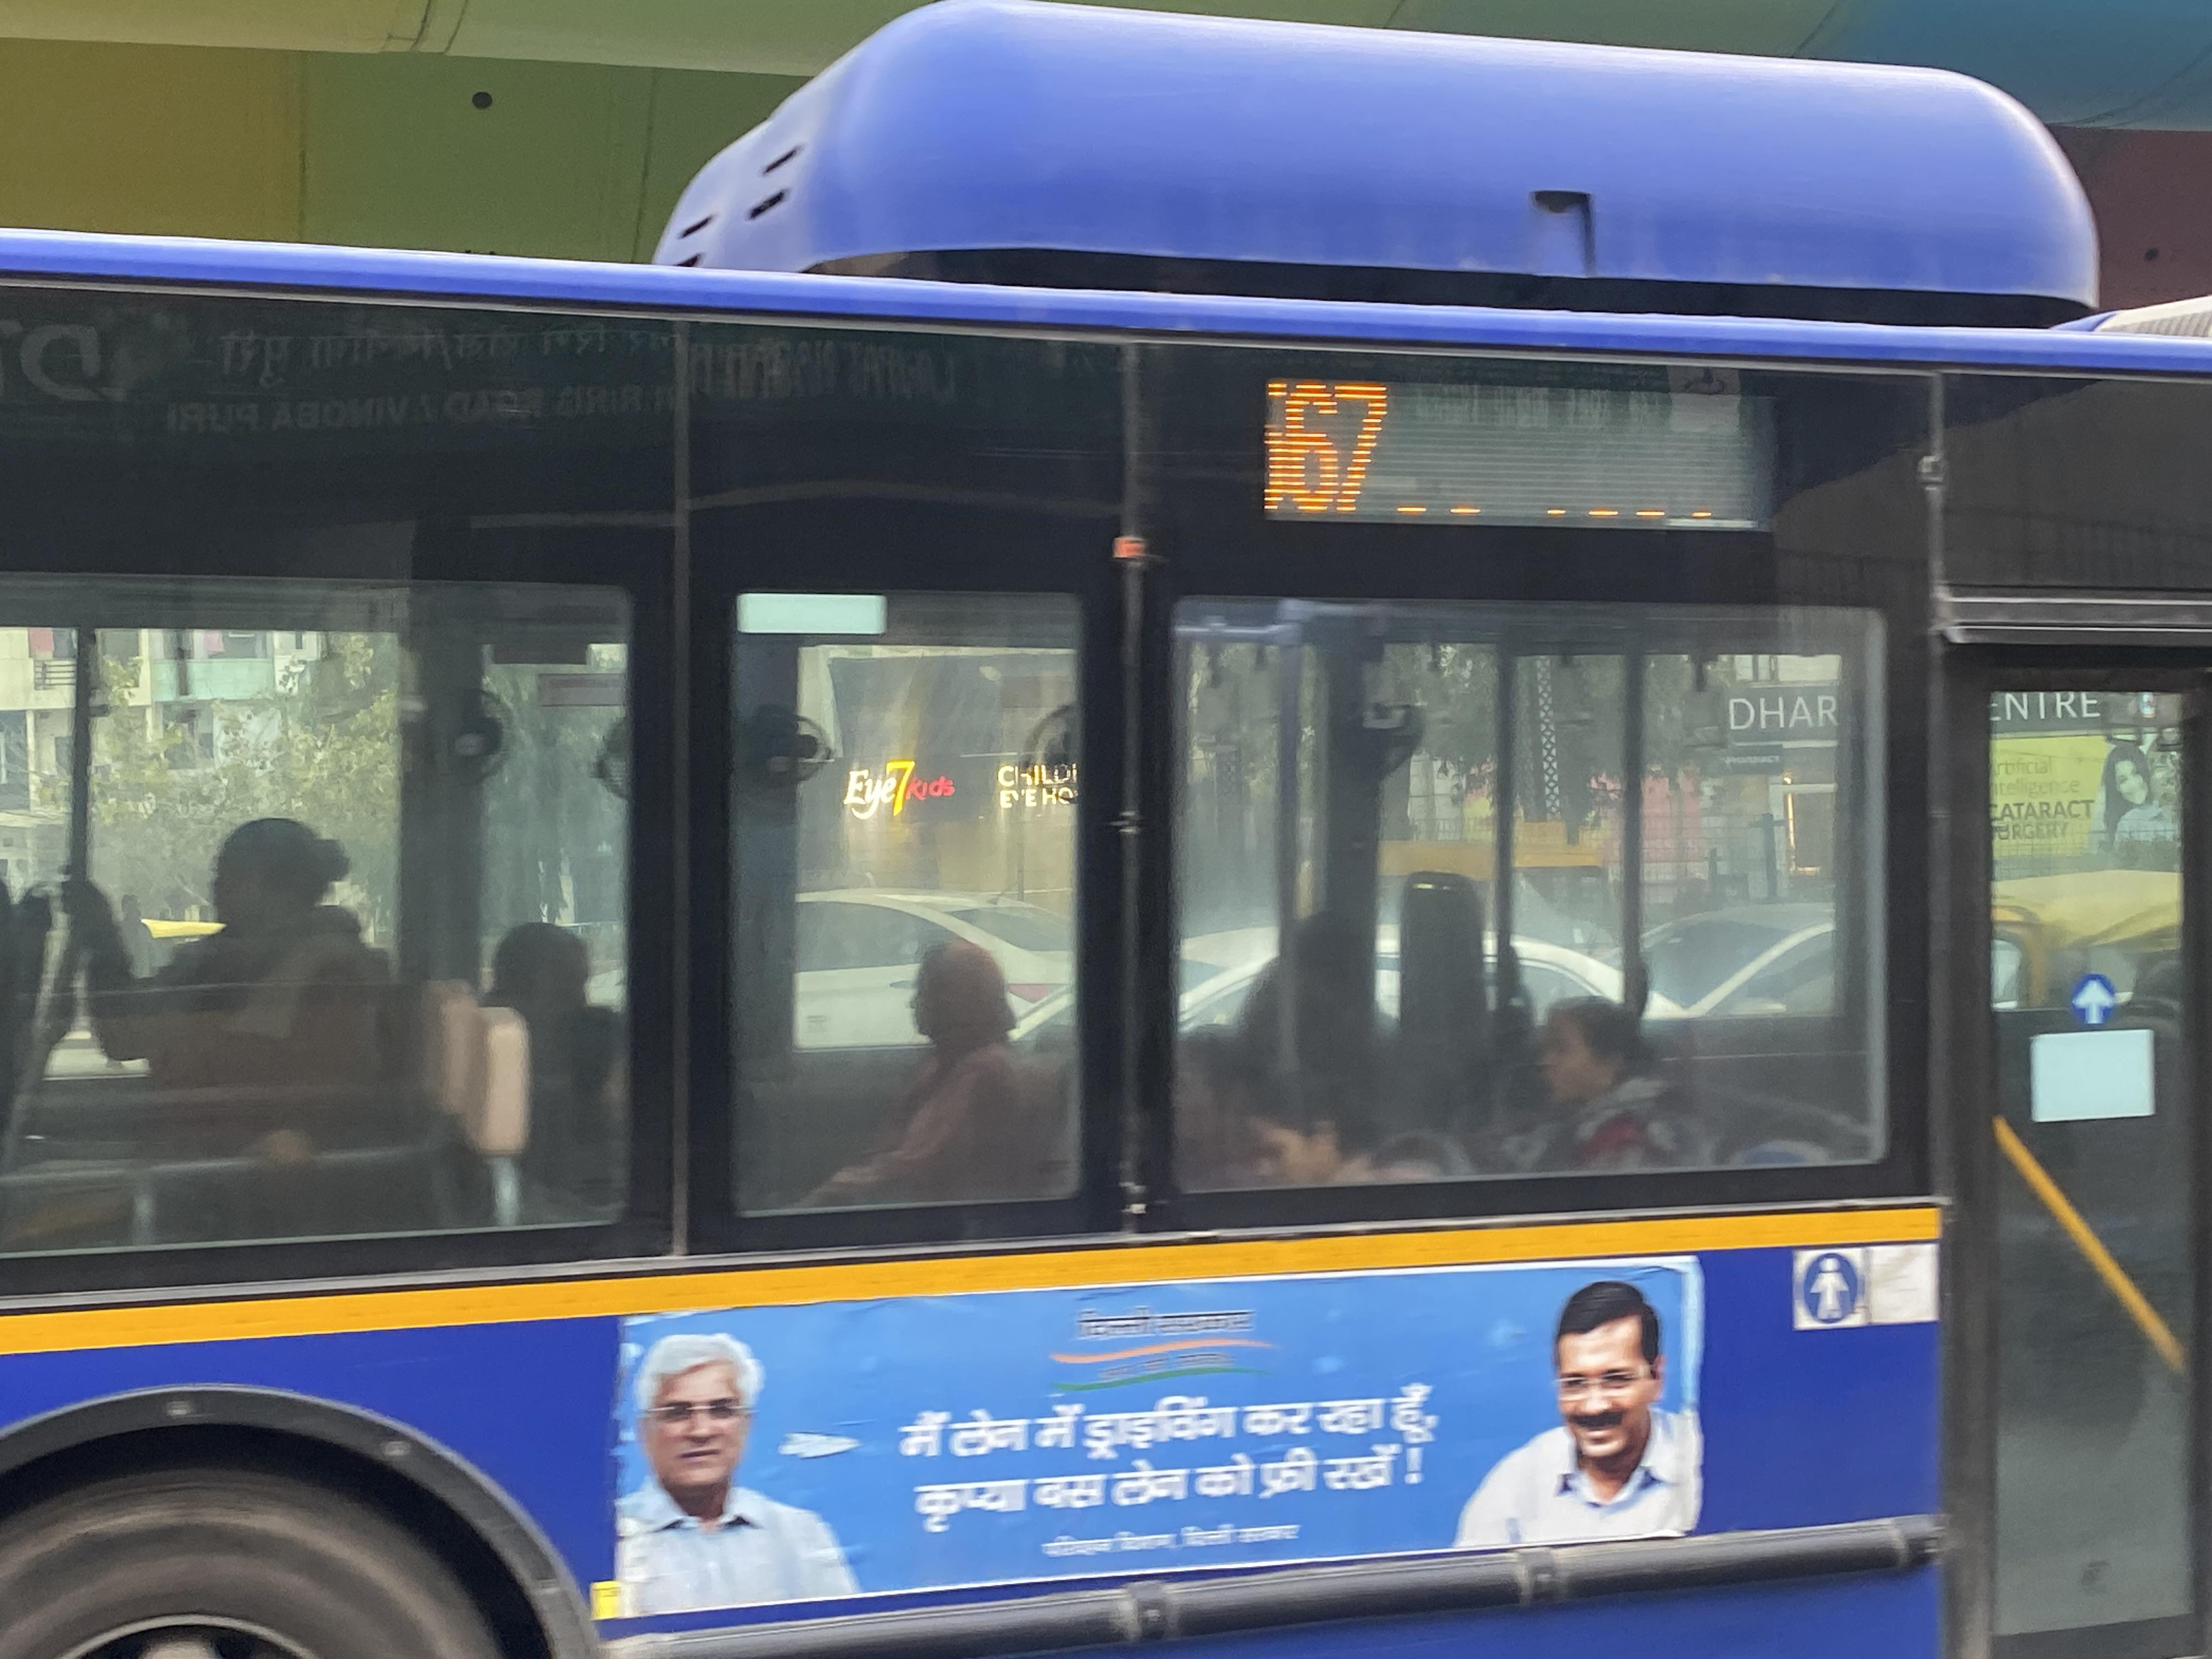Bus: (0, 225, 2212, 1659)
Display Board: (1230, 335, 1848, 577)
